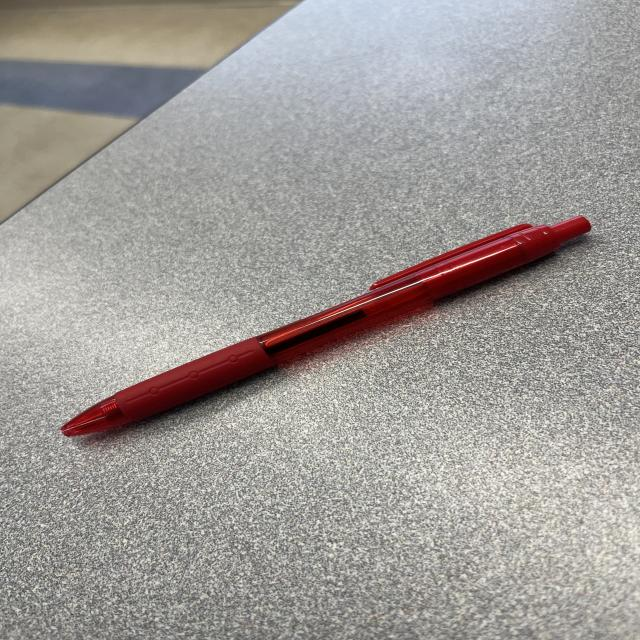pen: (60, 216, 594, 436)
